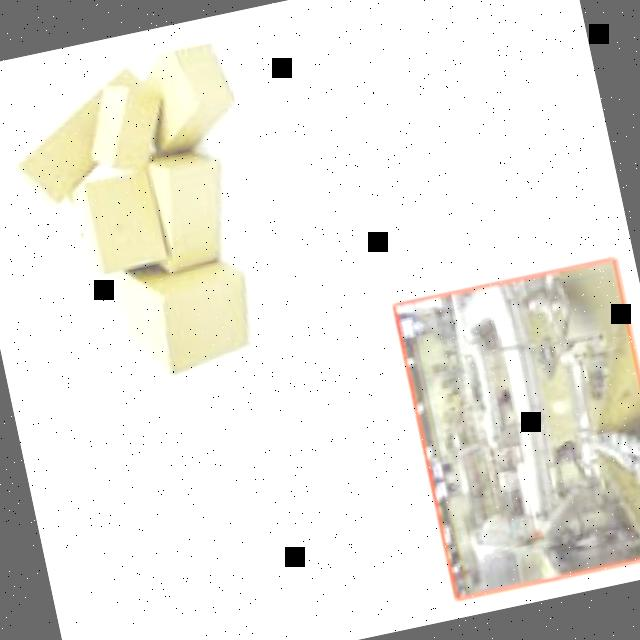cardboard_box: (3, 66, 164, 216), (112, 245, 262, 380), (130, 41, 238, 166), (64, 160, 170, 280), (142, 147, 240, 276), (74, 74, 174, 190)
